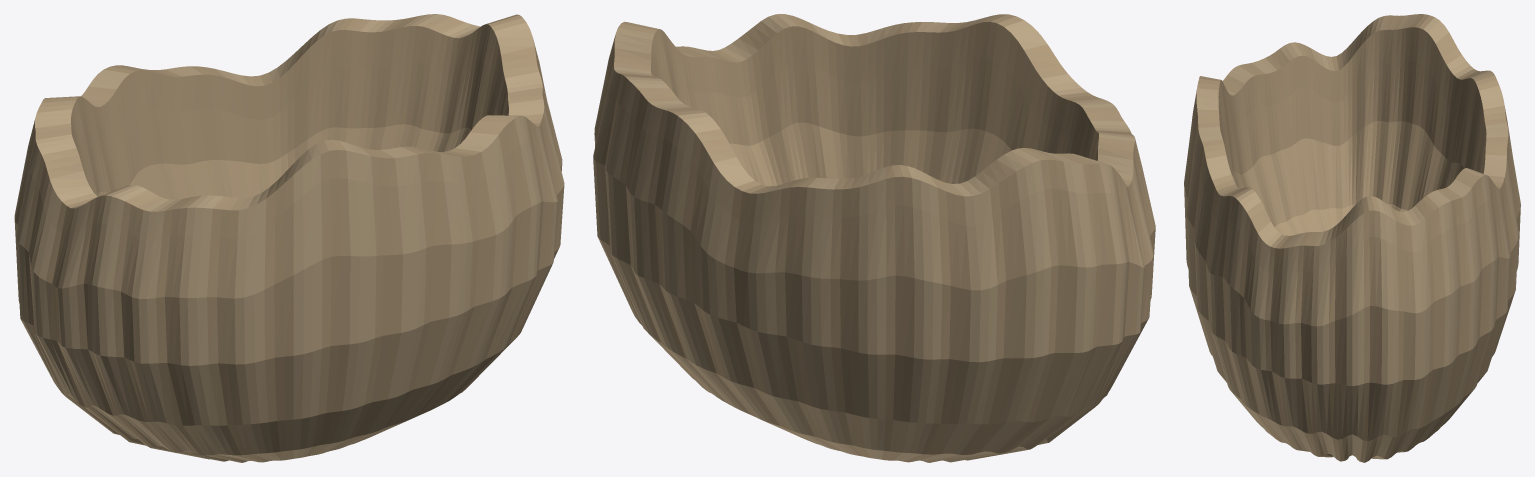
3 renders of one model, left to right at view 1: azimuth 30°, elevation 25°; view 2: azimuth 150°, elevation 25°; view 3: azimuth 270°, elevation 25°, orthographic. The views are drawn at different scales.
Visible parts, largest first — view 1: incomplete_elliptical_ernietta_basal_fossil_sack_integral_pa; view 2: incomplete_elliptical_ernietta_basal_fossil_sack_integral_pa; view 3: incomplete_elliptical_ernietta_basal_fossil_sack_integral_pa.
Boxes of the visible parts, <box> form: incomplete_elliptical_ernietta_basal_fossil_sack_integral_pa: <box>14,14,564,462</box>; incomplete_elliptical_ernietta_basal_fossil_sack_integral_pa: <box>593,14,1155,462</box>; incomplete_elliptical_ernietta_basal_fossil_sack_integral_pa: <box>1184,14,1520,462</box>.
Size of the model in its own units: 0.0818 by 0.0554 by 0.0512.
